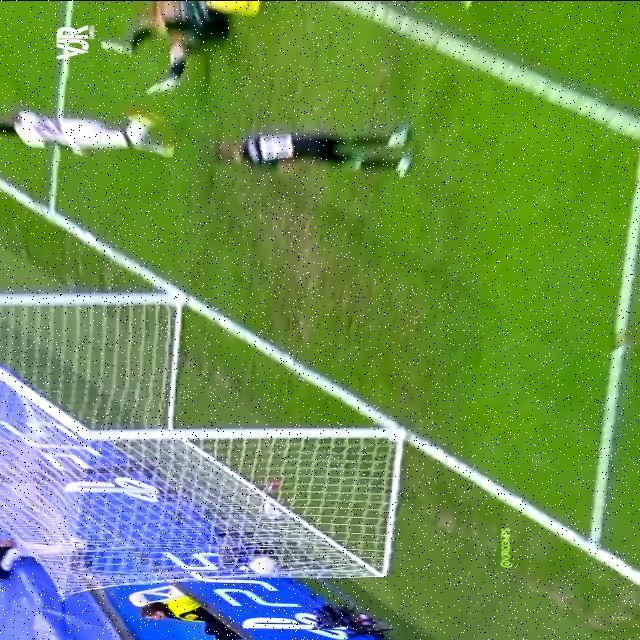ball: (228, 557, 303, 580)
player: (81, 9, 281, 87), (0, 103, 181, 162), (221, 131, 415, 170)
